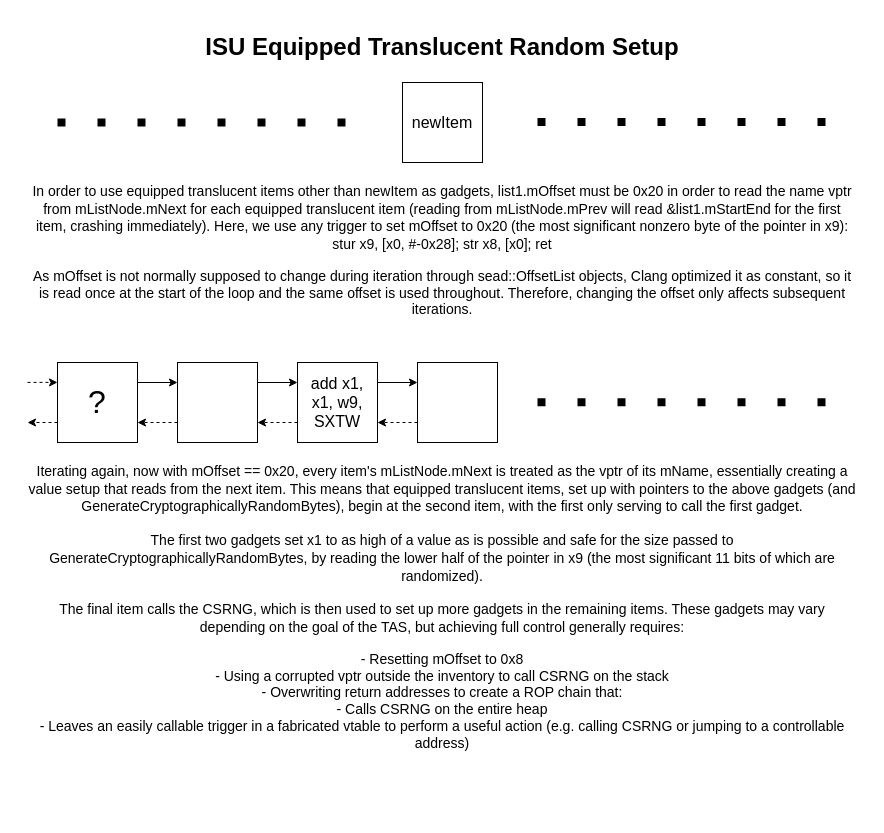
Some shapes in this 884 by 833 pixel diagram are drawn without their labels. Each missing label, with the box of its shape:
mov x1, xzr: (176, 362, 258, 442)
Random: (416, 362, 498, 442)
